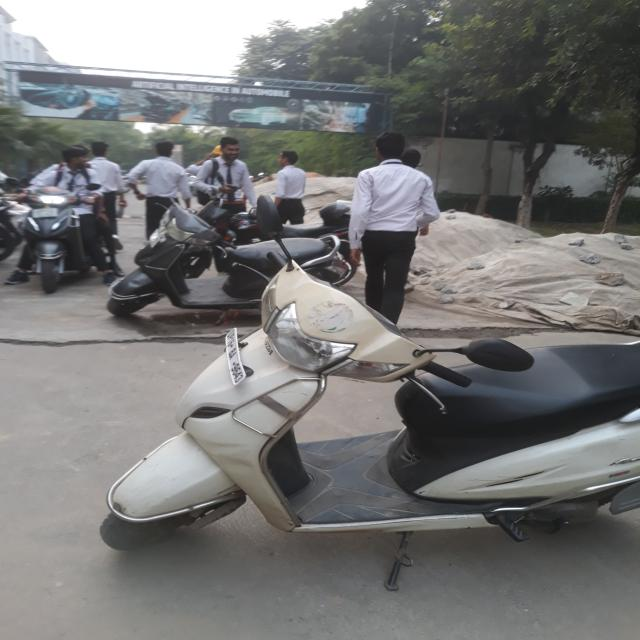unsafe: (348, 132, 440, 327), (11, 146, 120, 287), (192, 136, 261, 277), (130, 140, 190, 249), (86, 142, 129, 253), (270, 151, 307, 229)
